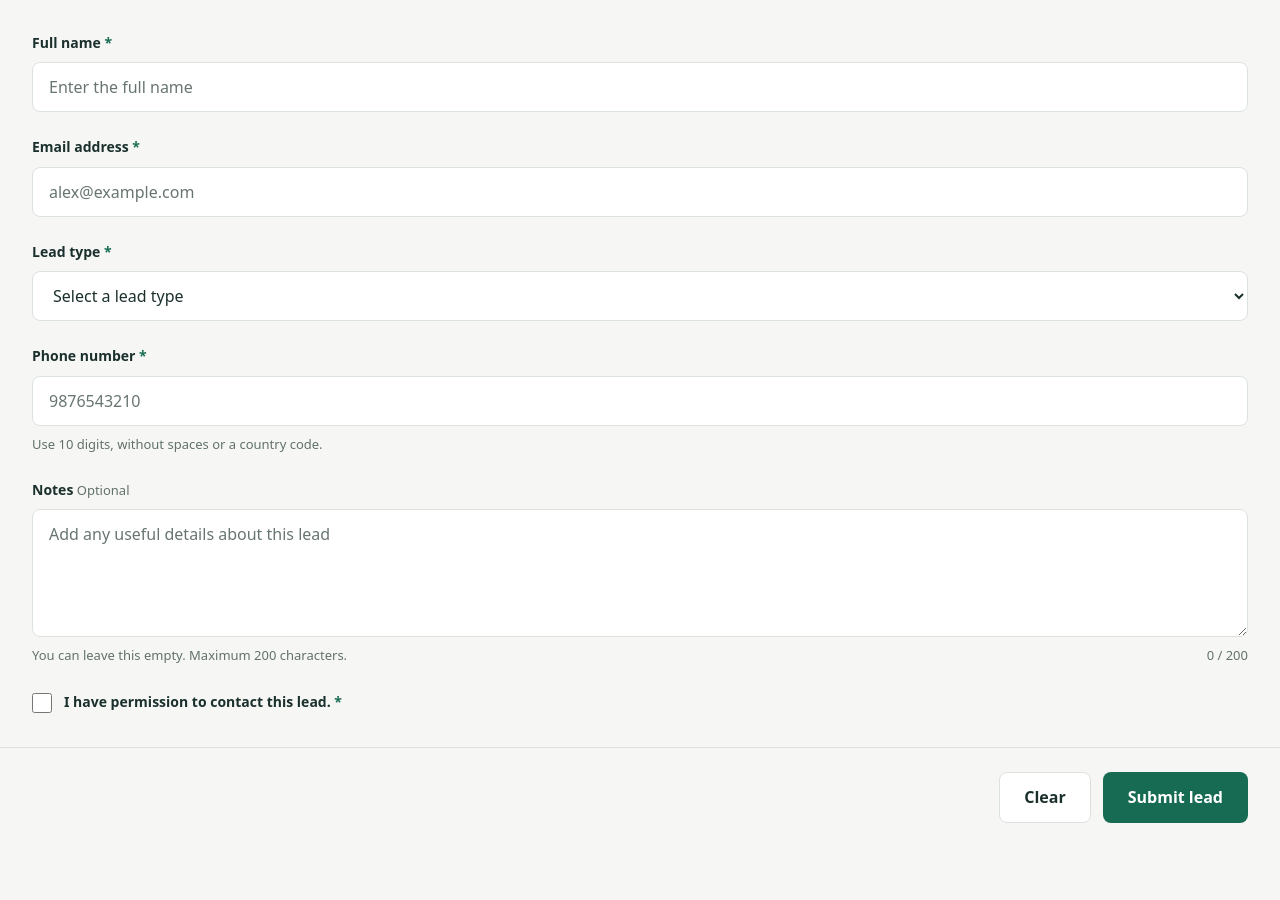
it: form interactions › clears both values and revealed errors
Step 1. Type "Alex" into the field labelled "Full name *" → (640, 87), box [32,62,1248,112]
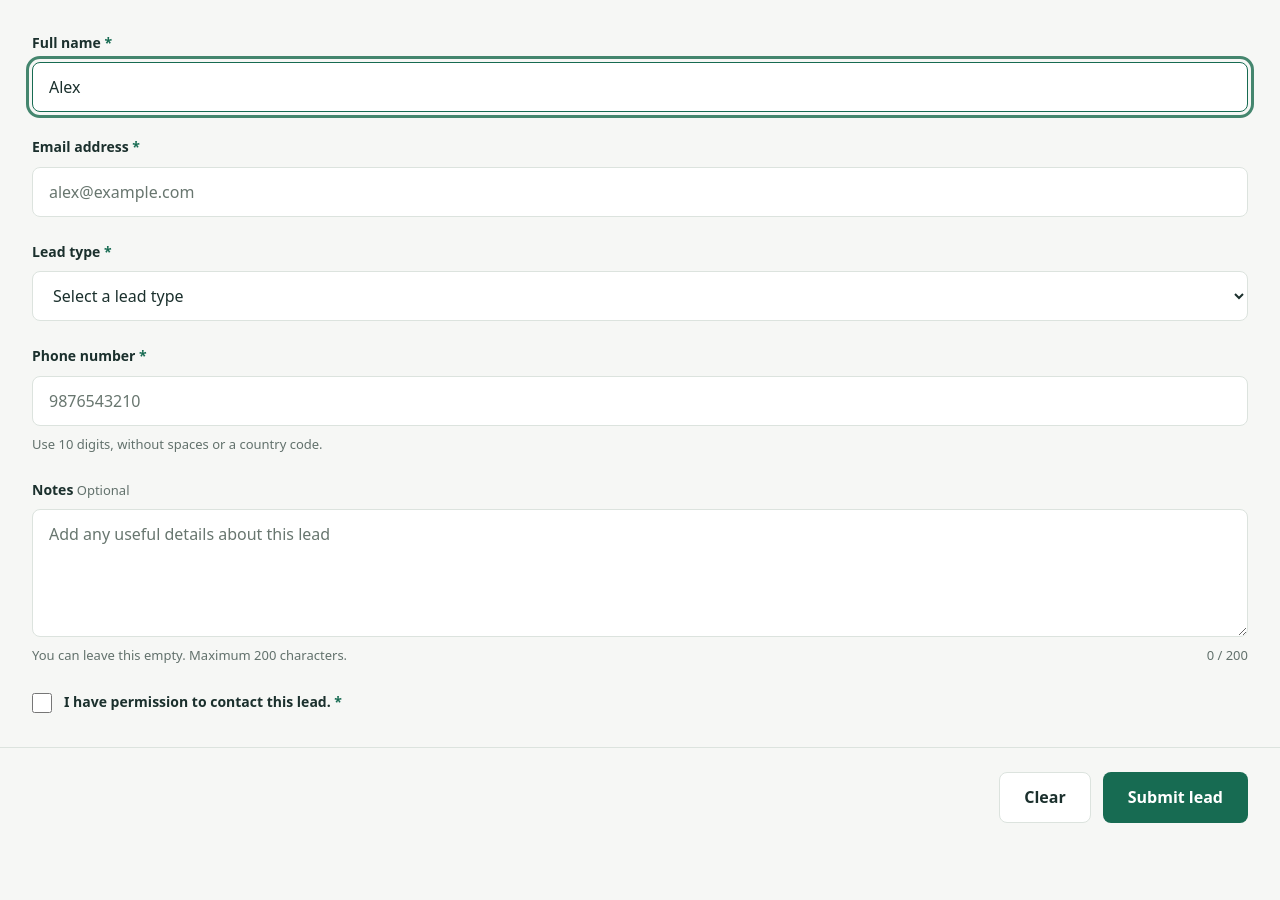
Step 2. Click the button "Submit lead" → (1175, 798), box [1103,772,1248,823]
(page scrolled)
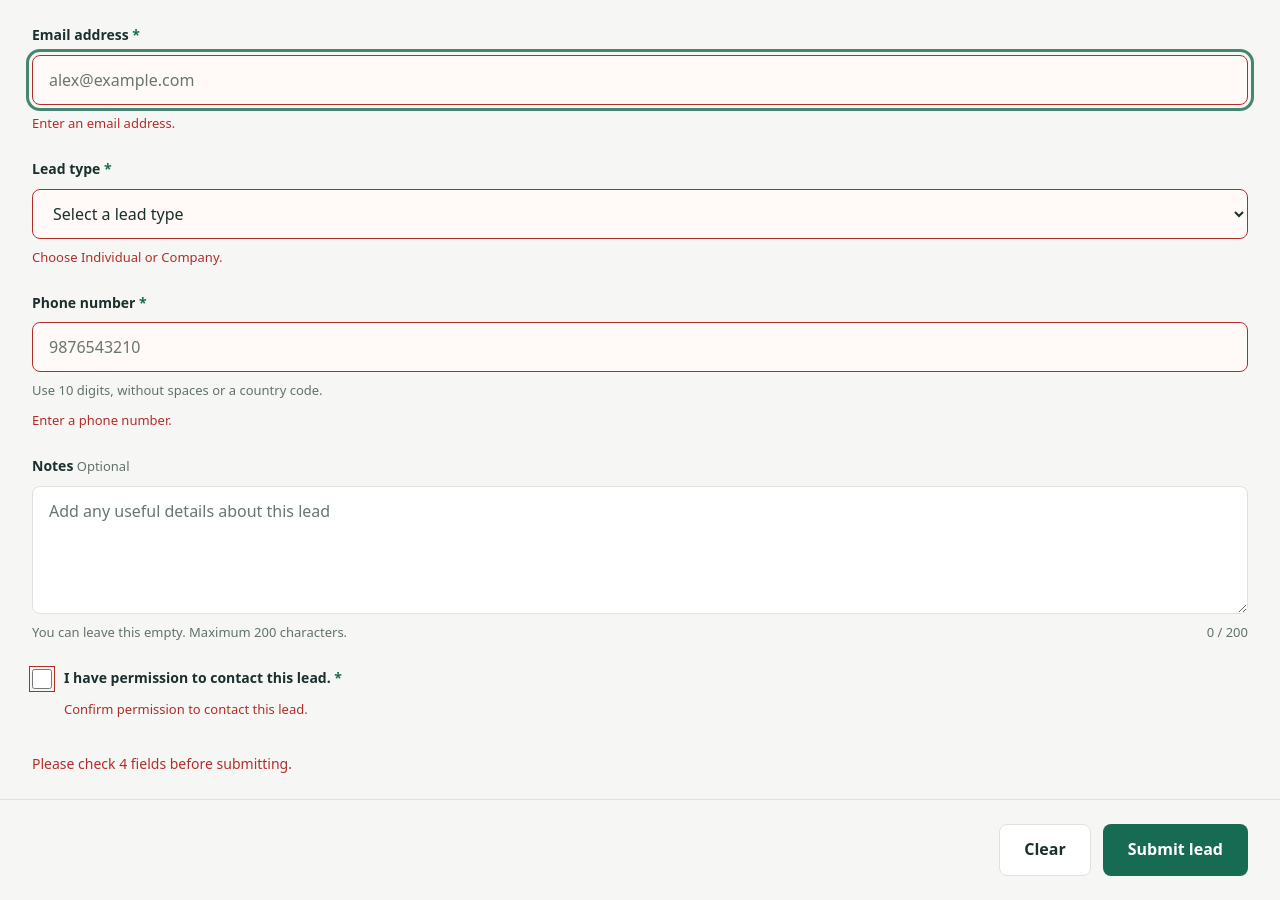
Step 3. Click the button "Clear" → (1045, 850), box [999,824,1091,876]
(page scrolled)
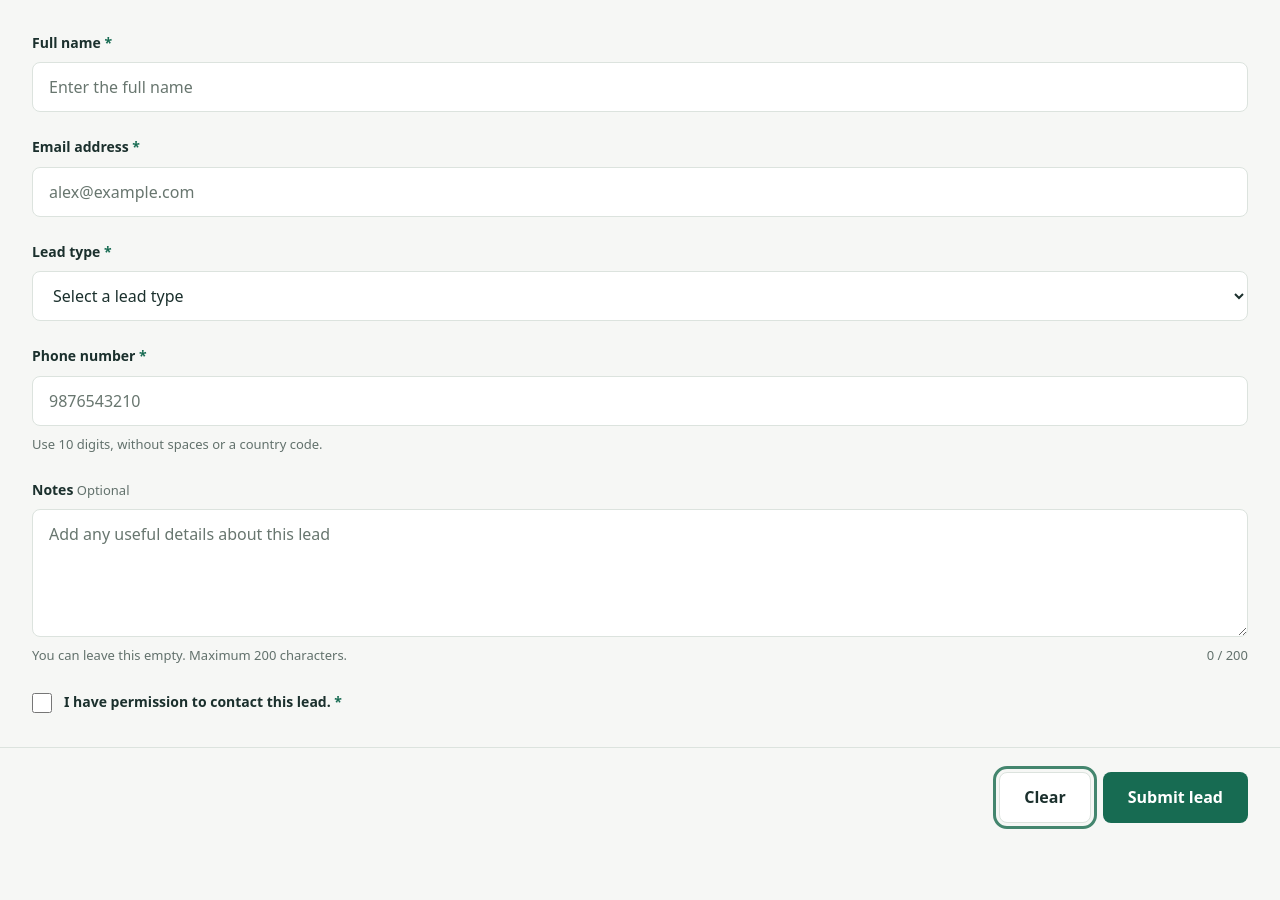
Check: the checkbox is not checked, box [32,693,52,713]
Check: the field labelled "Full name *" is empty, box [32,62,1248,112]
Check: the text "Please check" is gone
